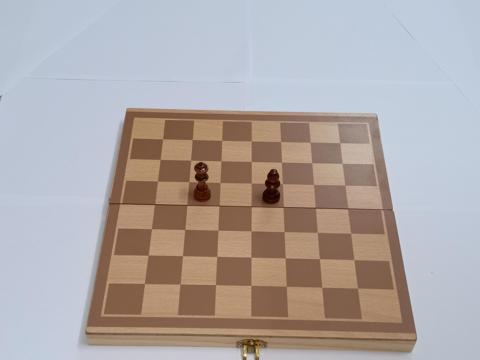xcorner: (139, 280, 149, 290), (214, 202, 224, 212), (348, 230, 358, 240), (157, 134, 166, 144), (152, 177, 161, 187), (185, 156, 195, 165), (182, 201, 191, 211), (180, 226, 189, 236), (175, 281, 185, 290), (216, 157, 226, 166), (215, 179, 225, 188), (213, 227, 223, 236), (212, 254, 222, 263), (211, 282, 221, 291), (247, 136, 256, 146), (247, 157, 256, 167), (247, 179, 256, 189), (279, 180, 288, 190), (282, 255, 291, 265), (337, 138, 346, 148), (340, 159, 349, 169), (342, 182, 352, 191), (345, 205, 354, 215), (351, 257, 361, 266), (355, 285, 364, 295), (155, 155, 164, 164), (149, 201, 158, 210), (146, 226, 155, 235), (143, 252, 152, 261), (187, 135, 196, 144), (184, 178, 193, 187), (178, 253, 187, 262), (217, 136, 226, 145), (247, 203, 256, 212), (247, 228, 256, 237), (247, 255, 256, 264), (247, 283, 256, 292), (277, 137, 286, 146), (278, 158, 287, 167), (280, 204, 289, 213), (281, 229, 290, 238), (283, 284, 292, 293), (307, 138, 316, 147), (309, 159, 318, 168), (311, 181, 320, 190), (313, 205, 322, 214), (315, 230, 324, 239), (317, 256, 326, 265), (319, 285, 328, 294)
